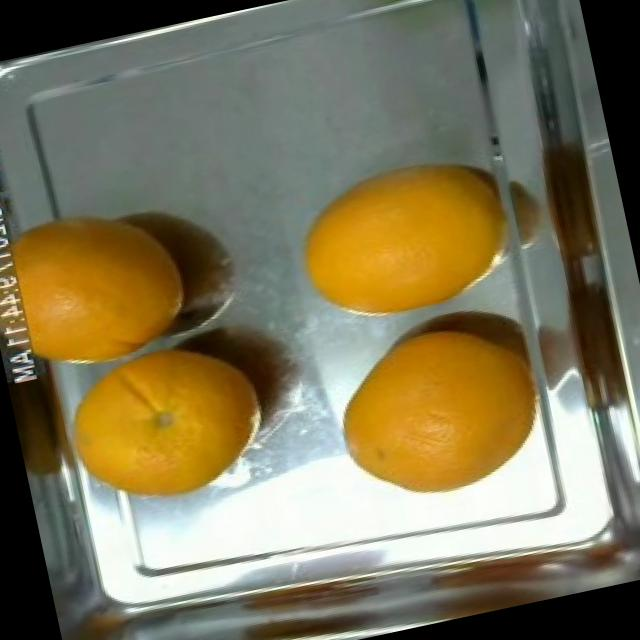Fruit: (39, 322, 288, 536), (0, 166, 225, 380), (268, 138, 508, 338)
